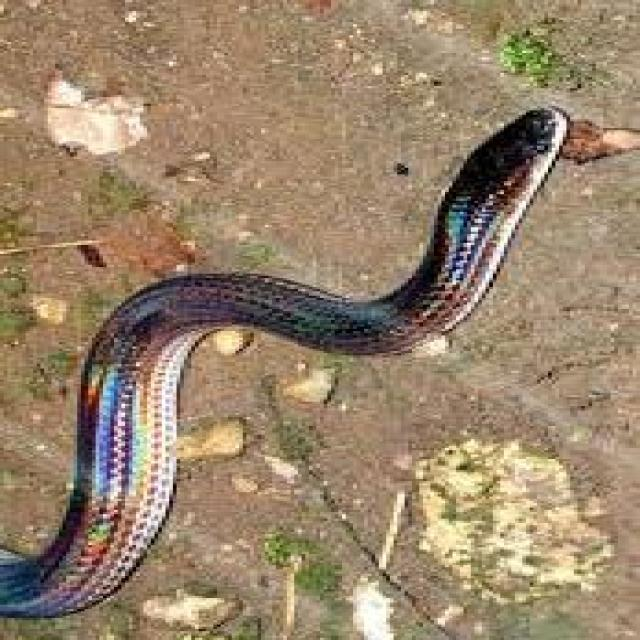Non-Venomous: (396, 78, 569, 347)
